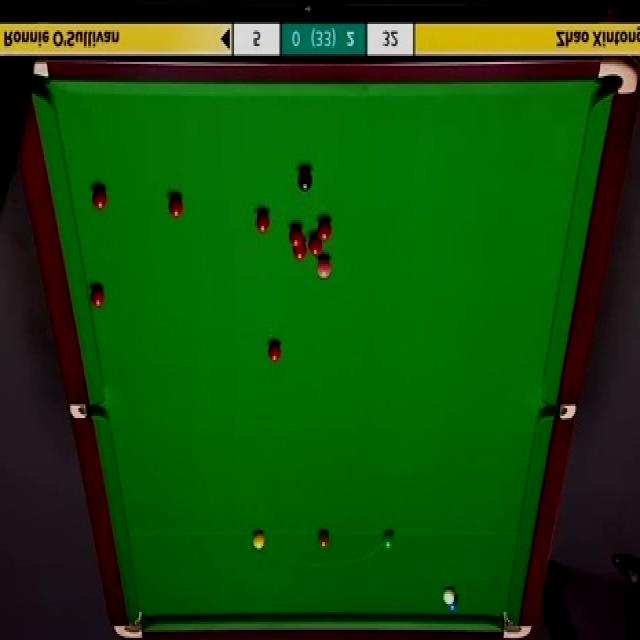black-ball: (297, 166, 314, 192)
blue-ball: (445, 593, 461, 618)
brown-ball: (317, 529, 331, 549)
green-ball: (382, 528, 396, 550)
pink-ball: (314, 255, 332, 279)
red-ball: (92, 184, 108, 212), (167, 195, 184, 219), (267, 340, 283, 364), (288, 224, 304, 247), (256, 209, 270, 235), (89, 285, 104, 309), (291, 240, 308, 261), (317, 220, 332, 242), (311, 238, 327, 258)
white-ball: (441, 587, 456, 606)
yellow-ball: (252, 530, 266, 550)
